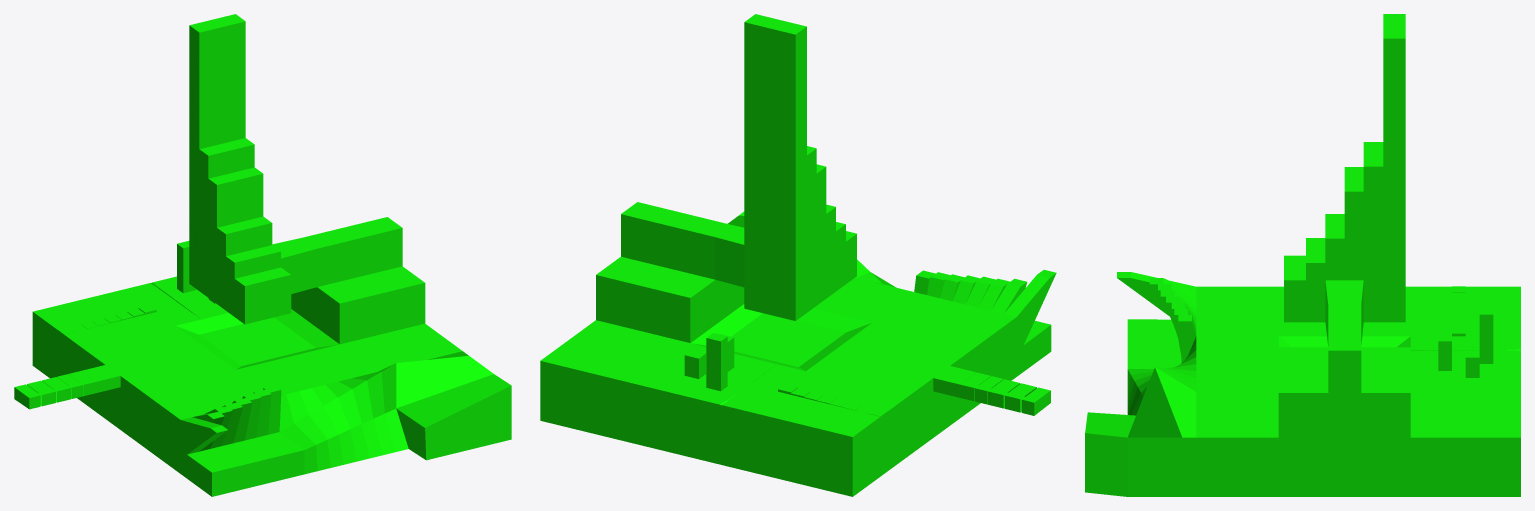
Rendered from blocks.obj.
3 renders of one model, left to right at view 1: azimuth 30°, elevation 25°; view 2: azimuth 150°, elevation 25°; view 3: azimuth 270°, elevation 25°, orthographic. The views are drawn at different scales.
Parts seen in each view (by area): view 1: Cube; view 2: Cube; view 3: Cube.
Part boxes in pixels (left/top/right/bottom): Cube: left=14, top=14, right=511, bottom=496; Cube: left=540, top=14, right=1056, bottom=496; Cube: left=1085, top=14, right=1520, bottom=496.
Bounding box in the file's own units: 14.44 × 13.07 × 13.31.
